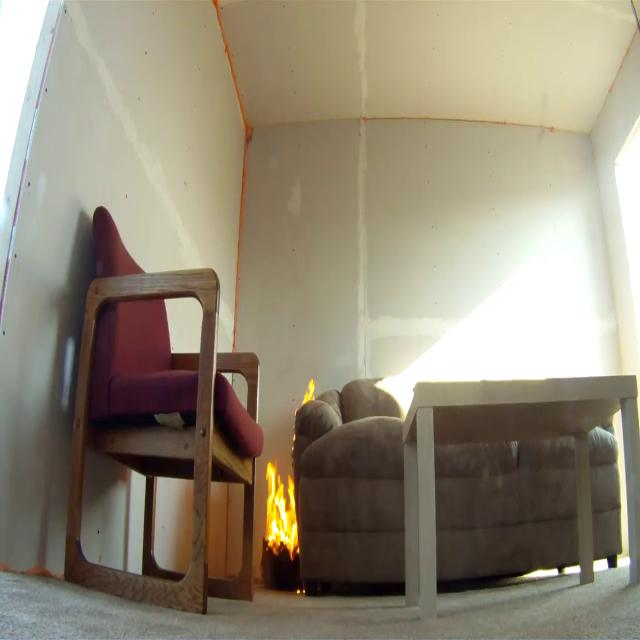fire: (263, 459, 301, 567), (300, 375, 316, 409)
